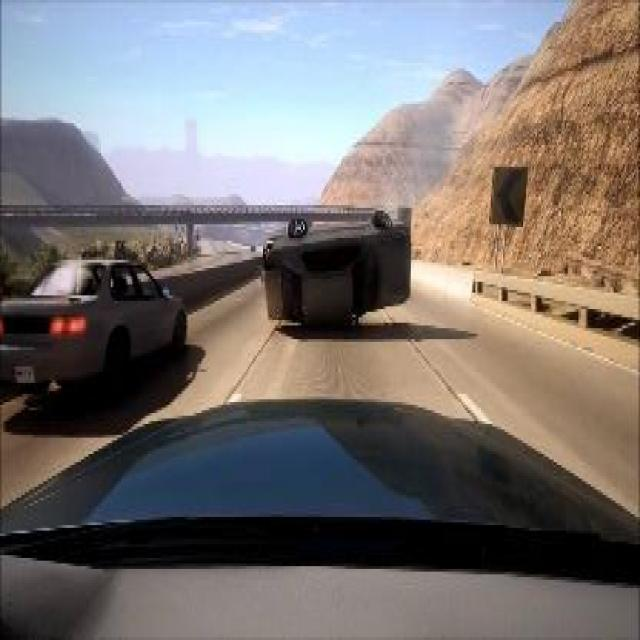accident: (257, 202, 415, 344)
